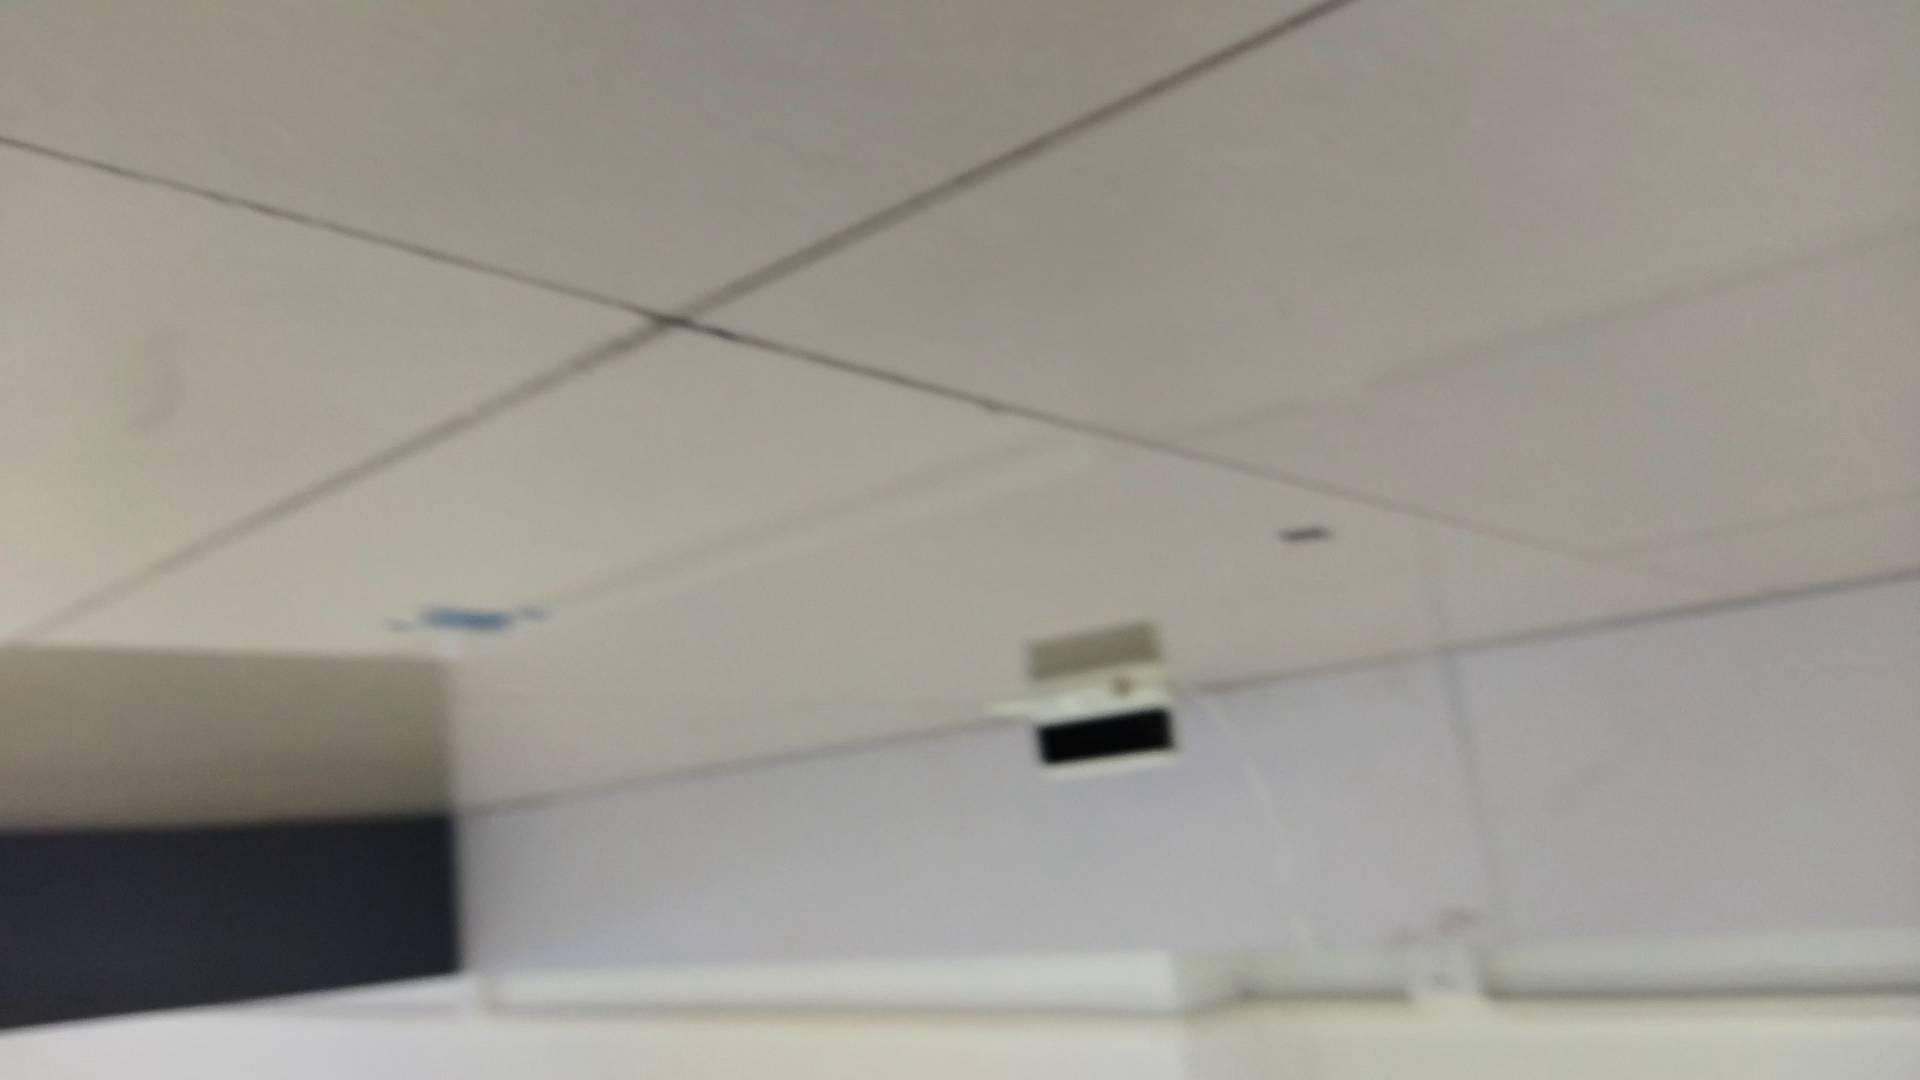recharge seat: (984, 651, 1188, 781)
